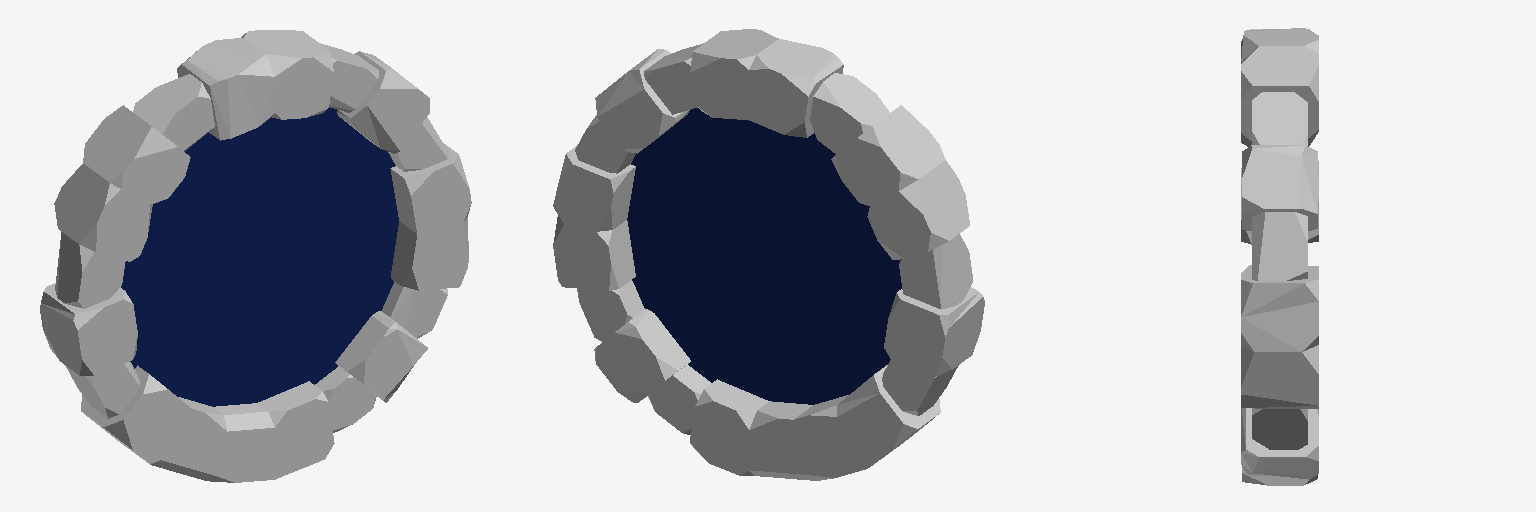
Rendered from portalExit.obj.
3 renders of one model, left to right at view 1: azimuth 30°, elevation 25°; view 2: azimuth 150°, elevation 25°; view 3: azimuth 270°, elevation 25°, orthographic.
Visible parts, largest first — view 1: PortalSurface_low_Plane.008; view 2: PortalSurface_low_Plane.008; view 3: PortalSurface_low_Plane.008.
Part boxes in pixels (left/top/right/bottom): PortalSurface_low_Plane.008: left=40, top=30, right=471, bottom=482; PortalSurface_low_Plane.008: left=553, top=29, right=984, bottom=480; PortalSurface_low_Plane.008: left=1241, top=28, right=1318, bottom=485.
Bounding box in the file's own units: 2.66 × 2.68 × 0.4499.